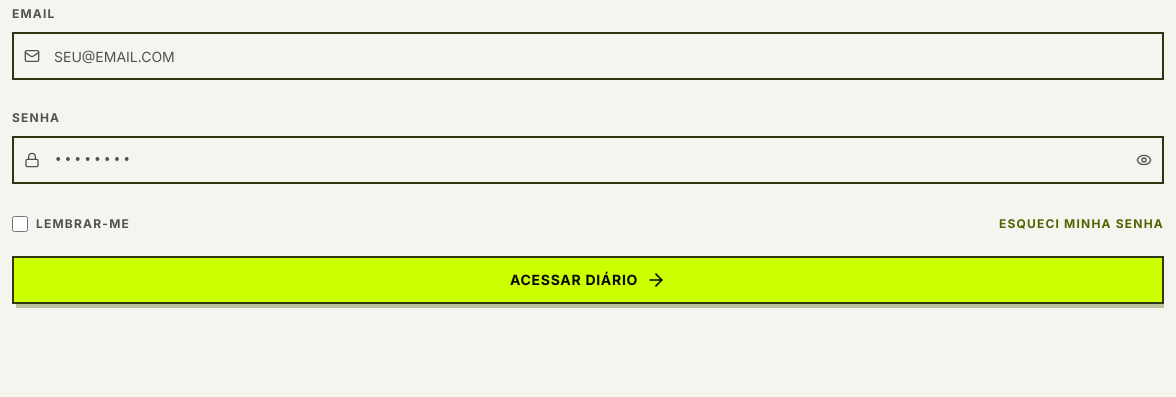
Scenario: LoginForm › deve exibir erro da API para credenciais inválidas
The image size is (1176, 397).
Type "wrong@example.com" into the field labelled "Email". click: (588, 56)
box: [12,32,1164,80]
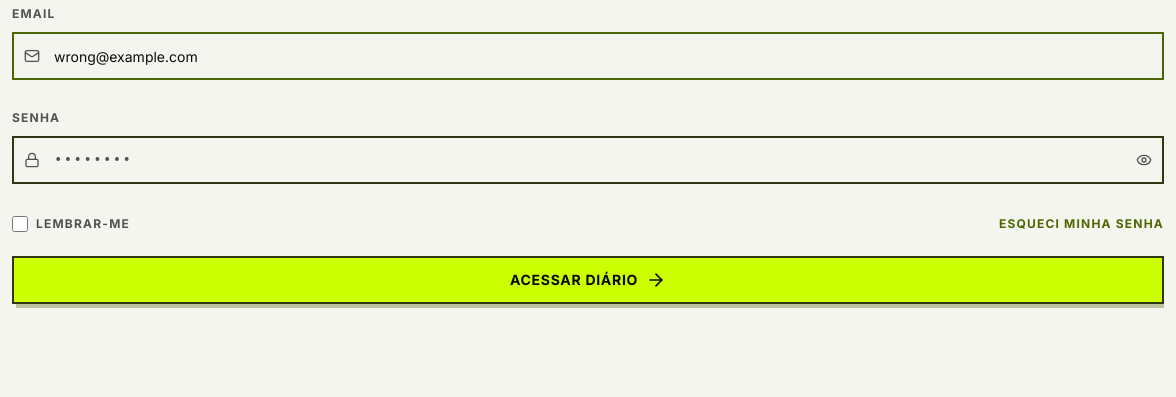
Type "senha123" into the password field labelled "Senha". click: (588, 160)
box: [12,136,1164,184]
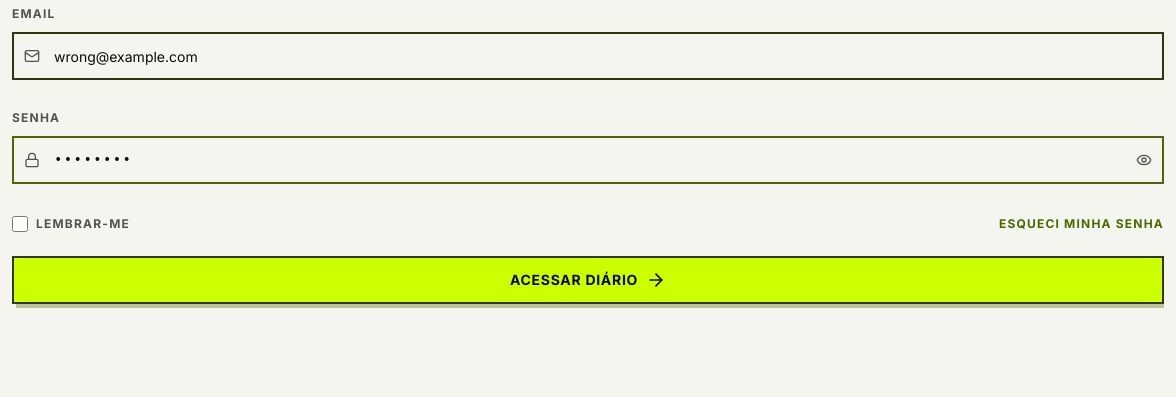
Click the button "Acessar Diário". click: (588, 280)
box: [12,256,1164,304]
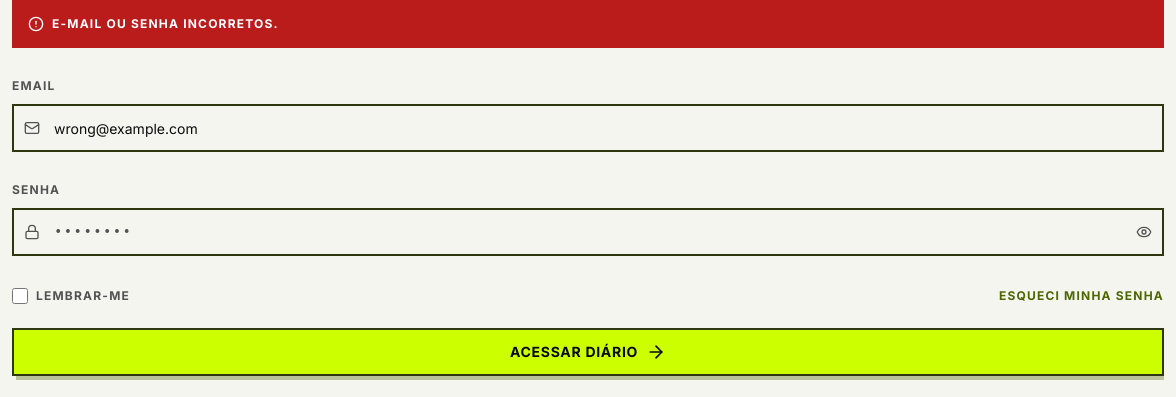
Now the text "E-mail ou senha incorretos." is shown, box [52,16,279,32]
